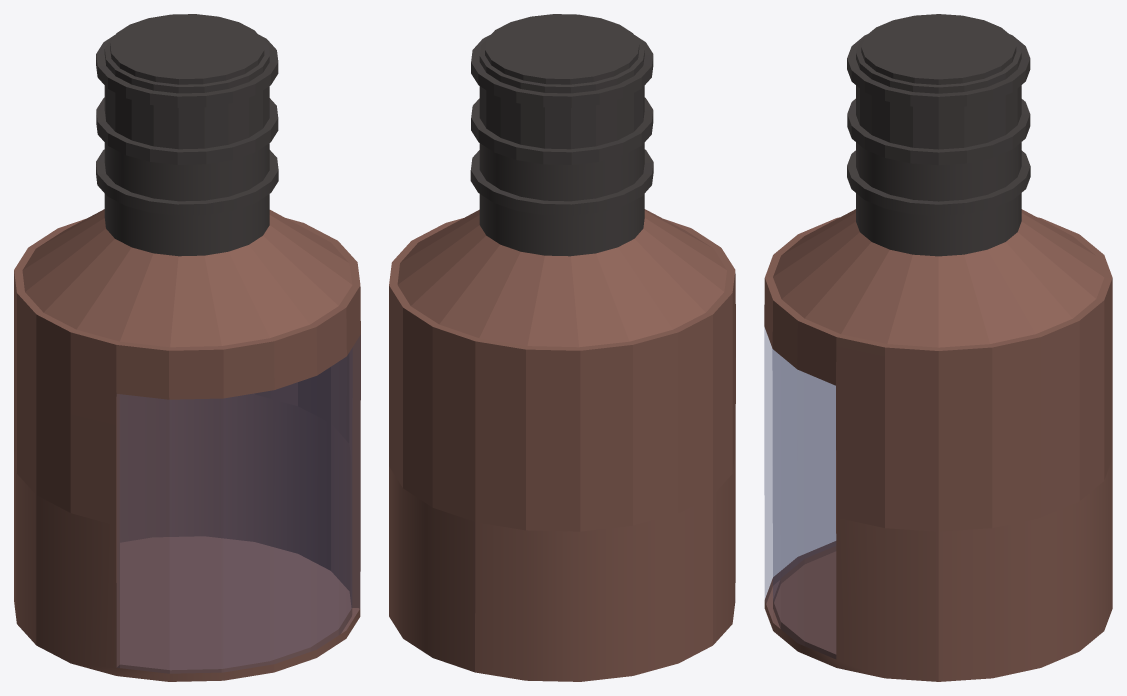
3 views of the same model, side by side, from view 1: azimuth 30°, elevation 25°; view 2: azimuth 150°, elevation 25°; view 3: azimuth 270°, elevation 25° (orthographic).
Visible parts, largest first — view 1: pCylinder5; view 2: pCylinder5; view 3: pCylinder5.
Boxes of the visible parts, x1,y1,x2,y2 form: pCylinder5: (14, 14, 360, 681); pCylinder5: (389, 14, 735, 681); pCylinder5: (764, 14, 1112, 681).
Size of the model in its own units: 4.2 by 7.48 by 4.21.
